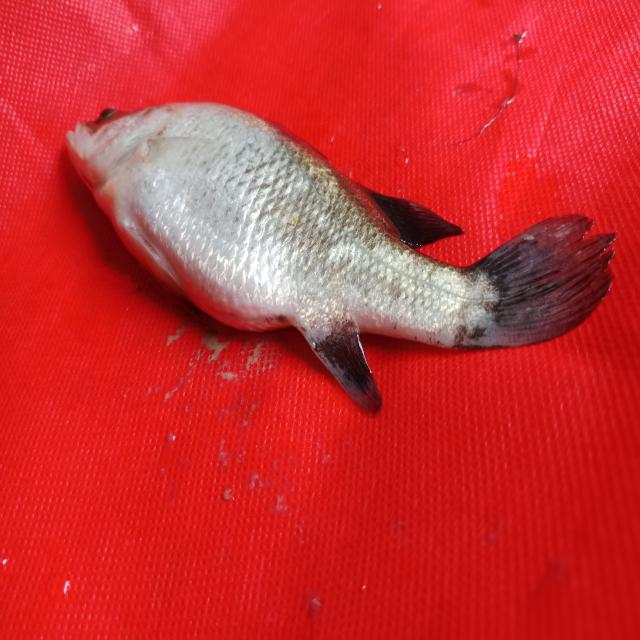ikan: (49, 62, 626, 424)
